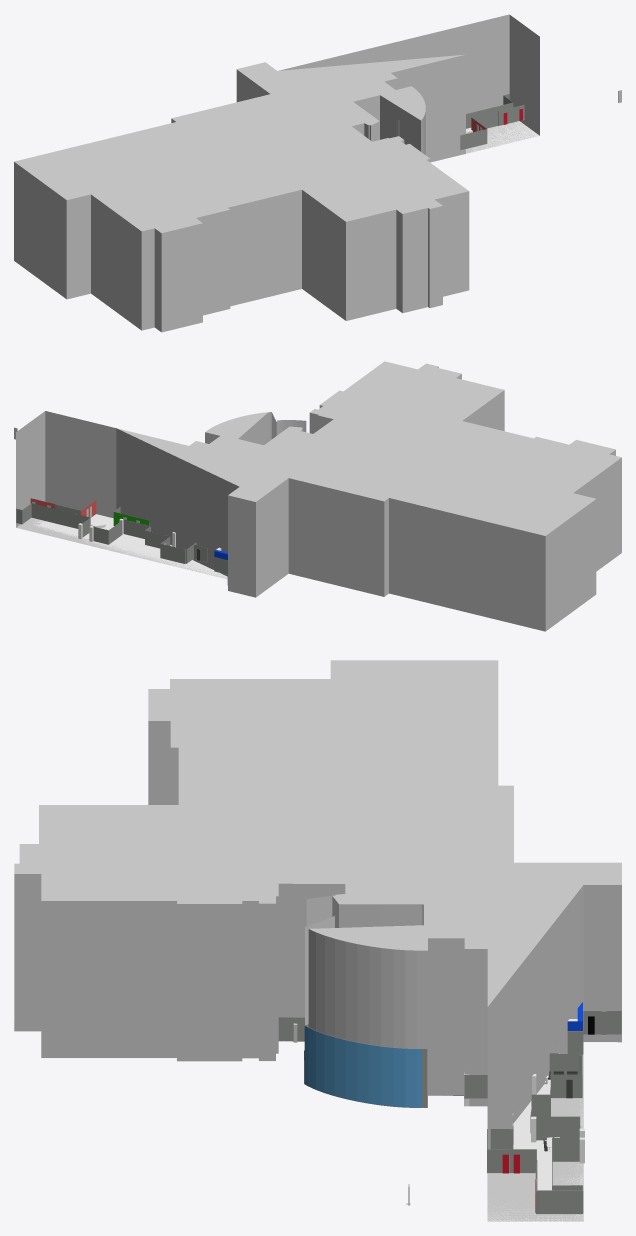
Rendered from campus.glb.
3 renders of one model, top to bottom at view 1: azimuth 30°, elevation 25°; view 2: azimuth 150°, elevation 25°; view 3: azimuth 270°, elevation 25°, orthographic. The views are drawn at different scales.
Parts seen in each view (by area): view 1: BASE-FLOOR.001, UPPER WALLS, BASE-FLOOR; view 2: BASE-FLOOR.001, UPPER WALLS, BASE-FLOOR, UPPER FLOOR; view 3: BASE-FLOOR.001, UPPER WALLS, ATRIUM WINDOW, UPPER FLOOR, BASE-FLOOR, LOWER WALLS.
Boxes of the visible parts, box(x1,y1,x2,y2) form: BASE-FLOOR.001: box(14, 14, 539, 332); UPPER WALLS: box(460, 94, 524, 149); BASE-FLOOR: box(68, 121, 539, 332); BASE-FLOOR.001: box(16, 361, 621, 631); UPPER WALLS: box(16, 498, 227, 585); BASE-FLOOR: box(31, 518, 227, 579); UPPER FLOOR: box(16, 514, 225, 574); BASE-FLOOR.001: box(14, 660, 621, 1221); UPPER WALLS: box(464, 1011, 621, 1213); ATRIUM WINDOW: box(304, 1026, 421, 1107); UPPER FLOOR: box(469, 1034, 621, 1214); BASE-FLOOR: box(14, 1021, 616, 1221); LOWER WALLS: box(278, 1017, 463, 1107).
Bounding box in the file's own units: 149 × 24.51 × 85.44.
